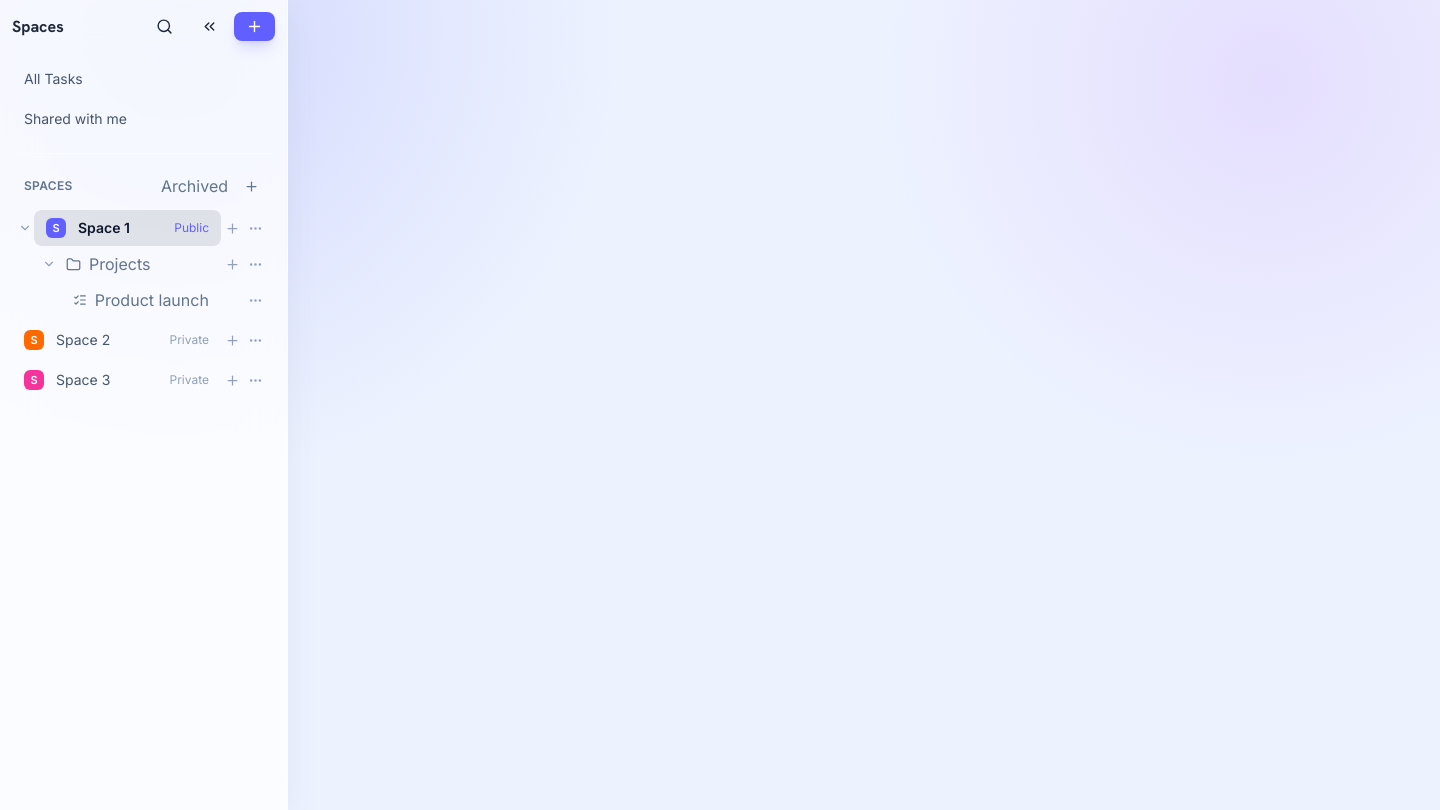
Test: ContextSidebar › closes sidebar menus when clicking outside the sidebar
What coordinates should you click on to do the following:
click the button named "Create space"
I would click on:
 (254, 26)
Its box is [234,12,275,41].
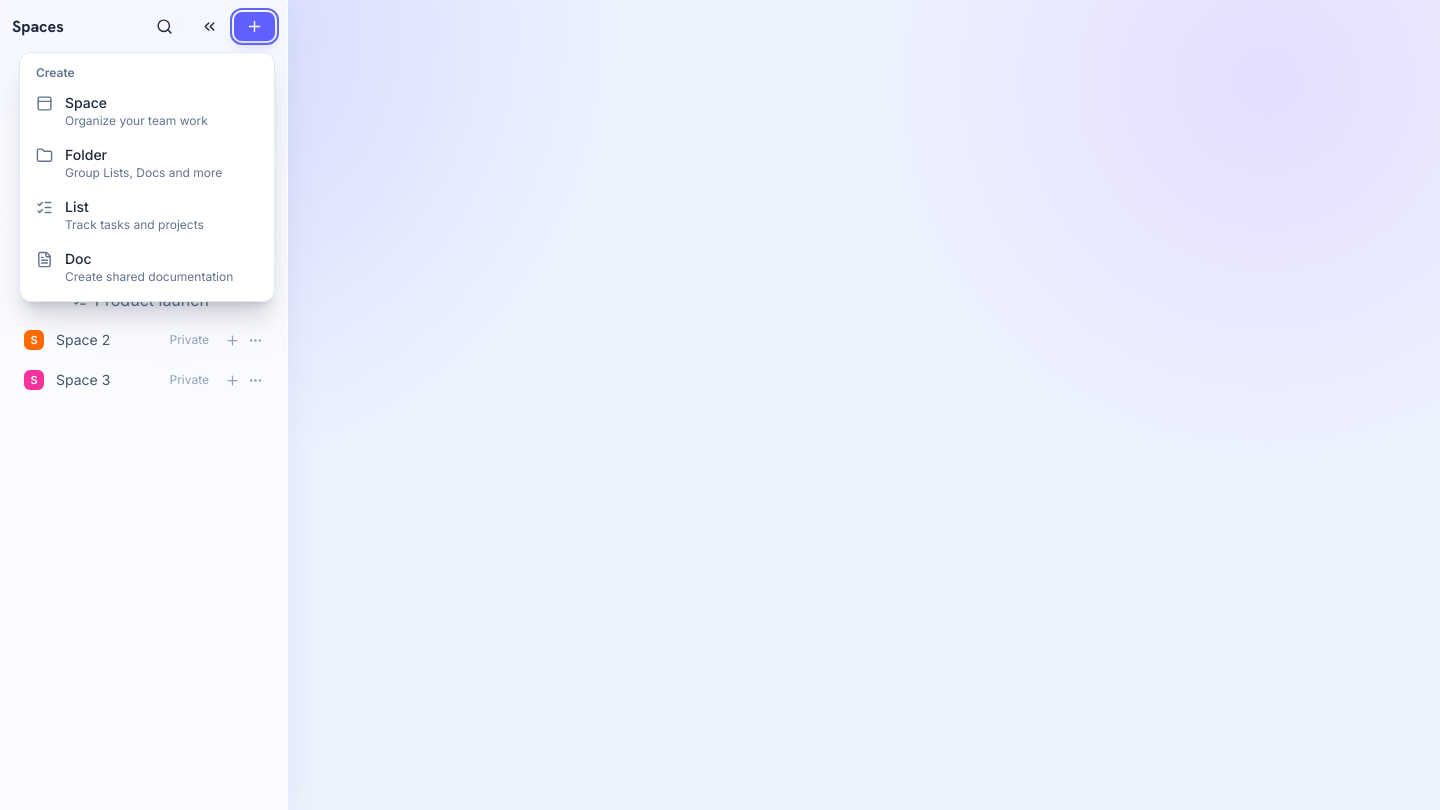
Check: the menu is shown, box [19,52,275,302]
What coordinates should you click on to do the following:
click the element that starts with "Spaces"
I would click on:
 (720, 405)
Its box is [0,0,1439,809].
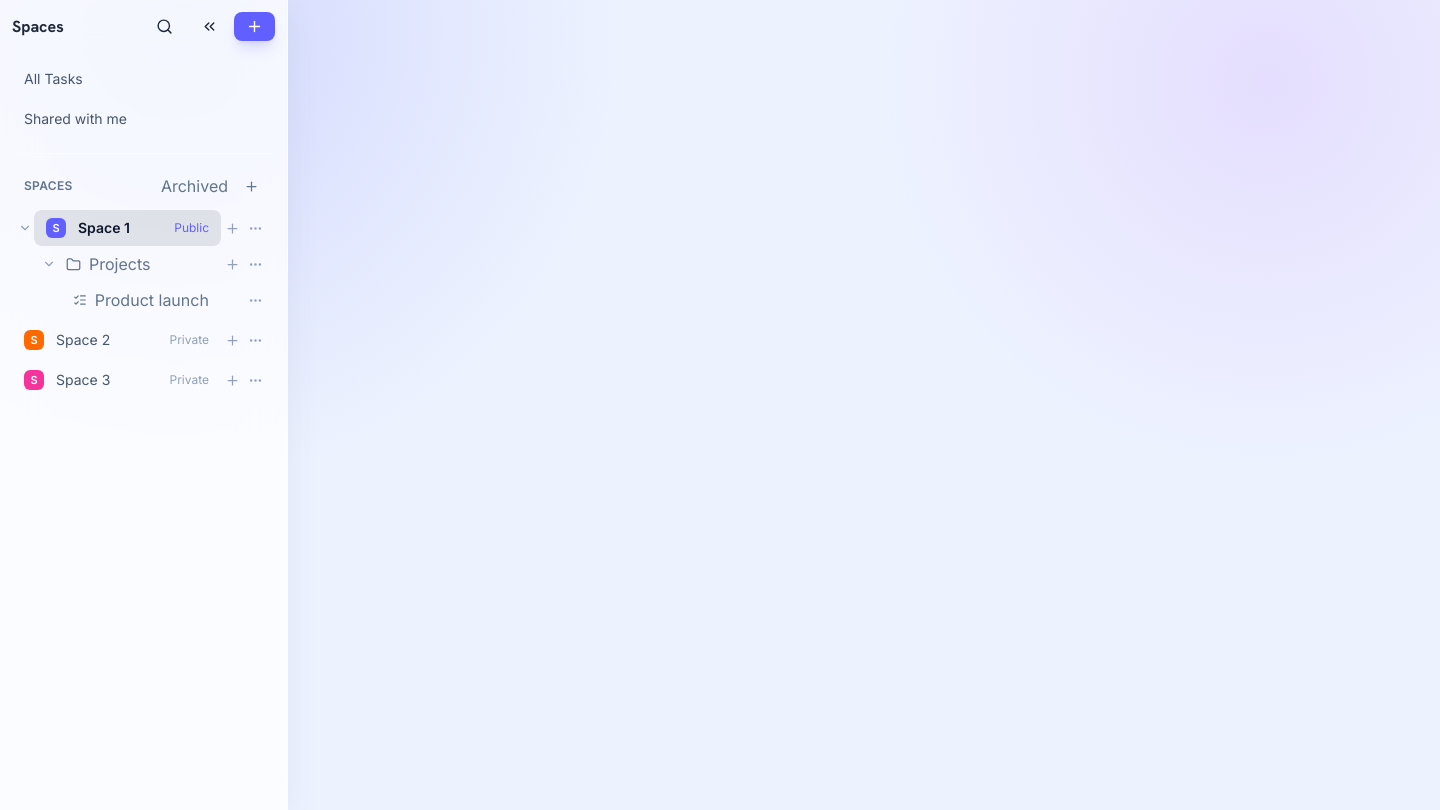
Check: the menu is gone
